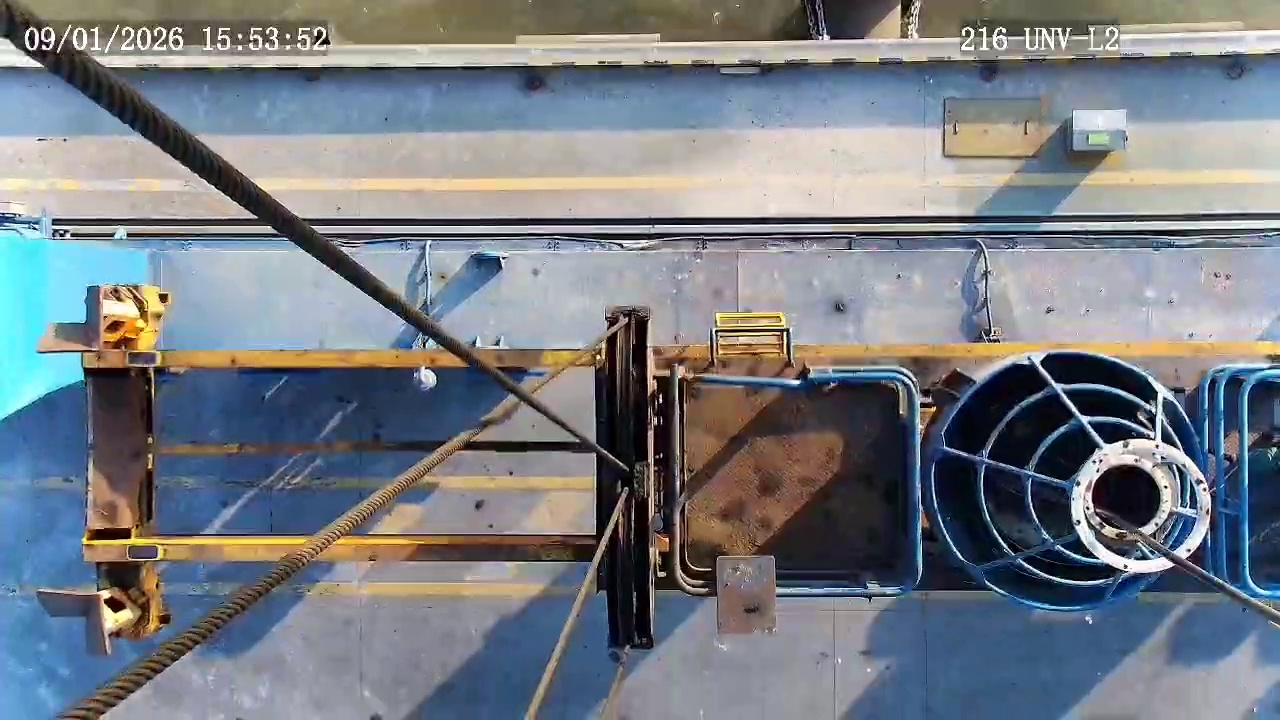left: (931, 351, 1205, 611)
